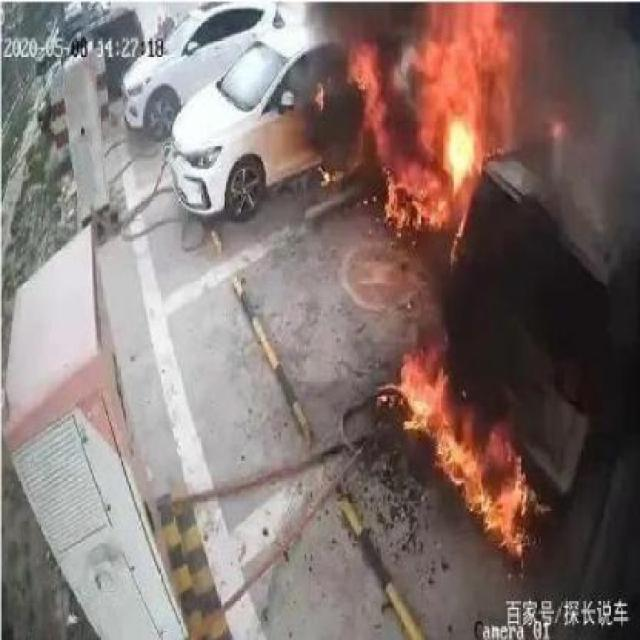Fire: (354, 3, 518, 226), (399, 356, 538, 558)
Smoke: (513, 6, 638, 254)
